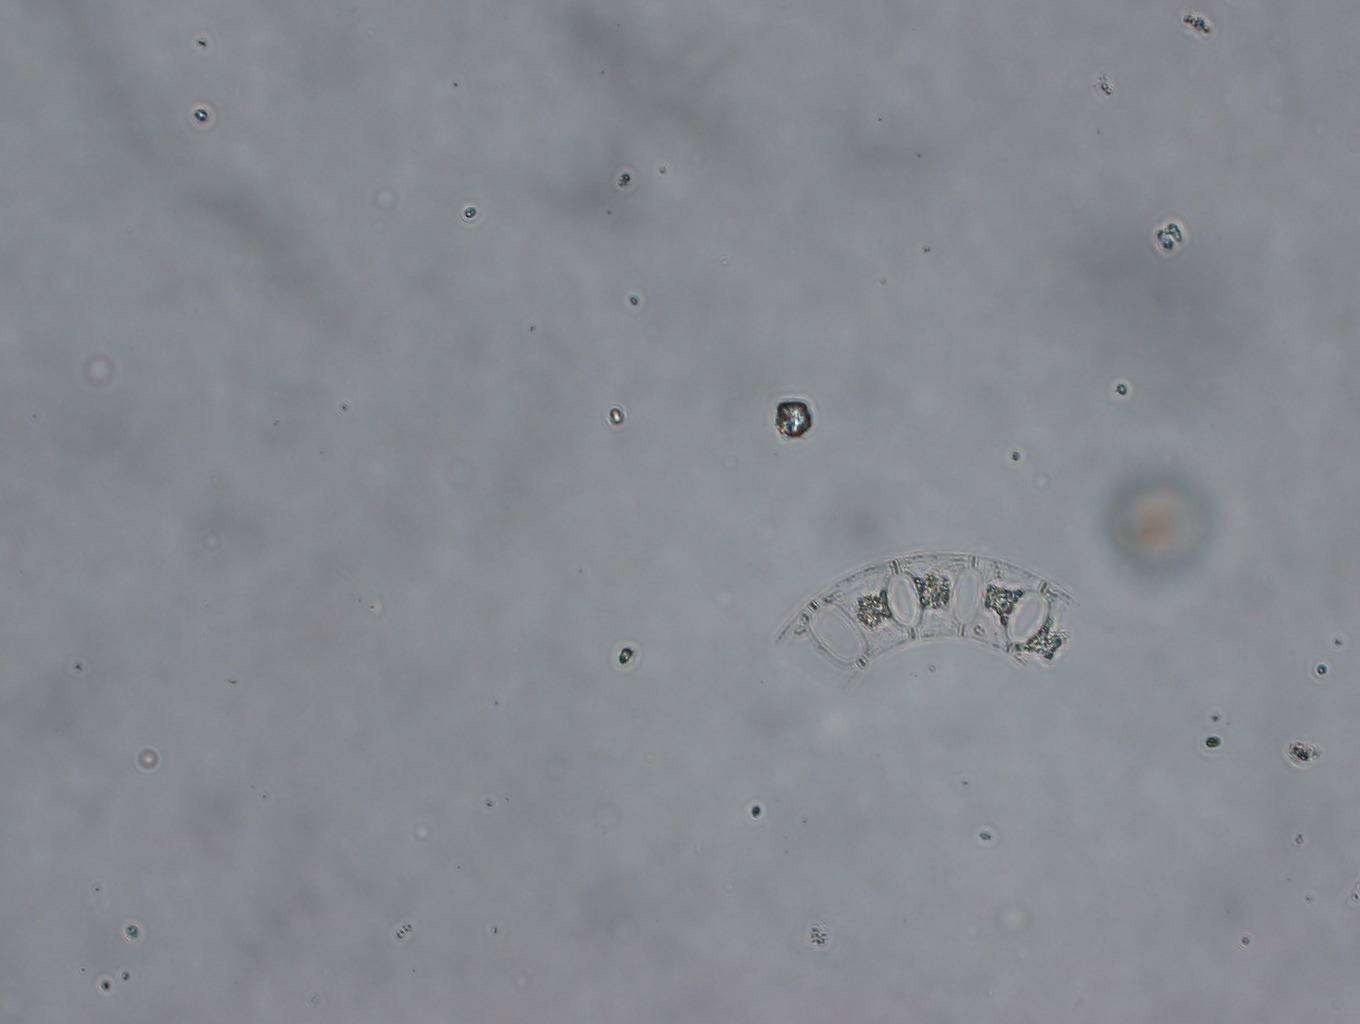eucampia: (774, 552, 1077, 683)
